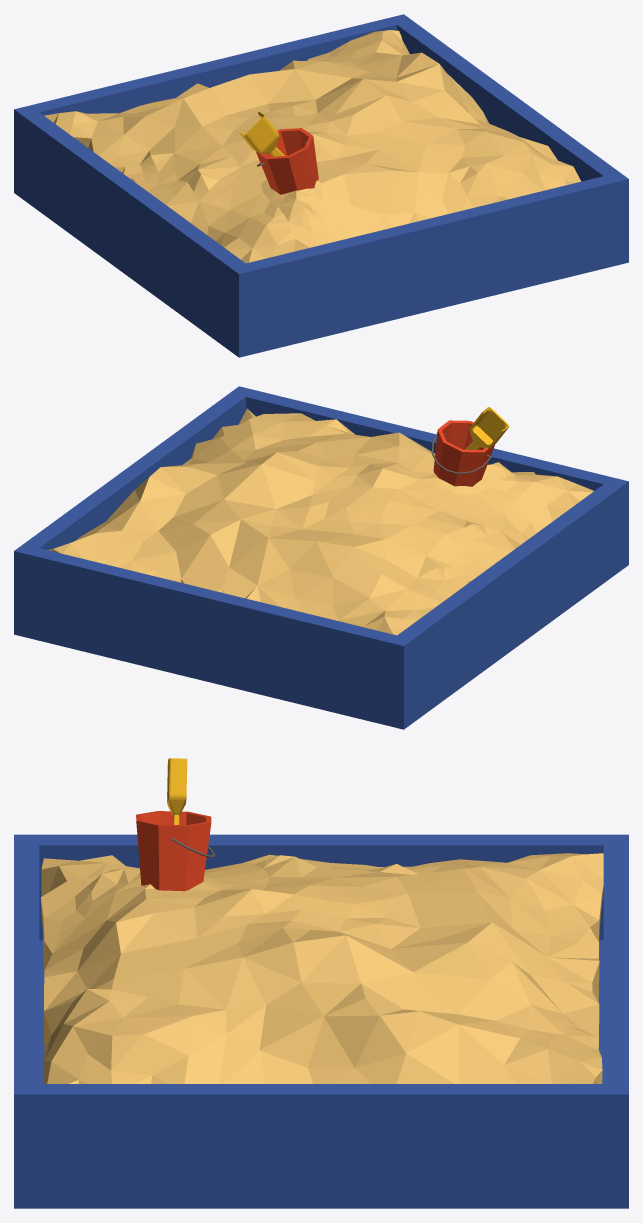
The model's file is D1_SANDBOX.fbx.
3 renders of one model, top to bottom at view 1: azimuth 30°, elevation 25°; view 2: azimuth 150°, elevation 25°; view 3: azimuth 270°, elevation 25°, orthographic. The views are drawn at different scales.
Parts seen in each view (by area): view 1: D1_SANDBOX; view 2: D1_SANDBOX; view 3: D1_SANDBOX.
Part boxes in pixels (x1,y1,x2,y2): D1_SANDBOX: [14, 14, 628, 357]; D1_SANDBOX: [14, 386, 628, 729]; D1_SANDBOX: [14, 758, 628, 1208].
Bounding box in the file's own units: 245 × 108 × 245.
